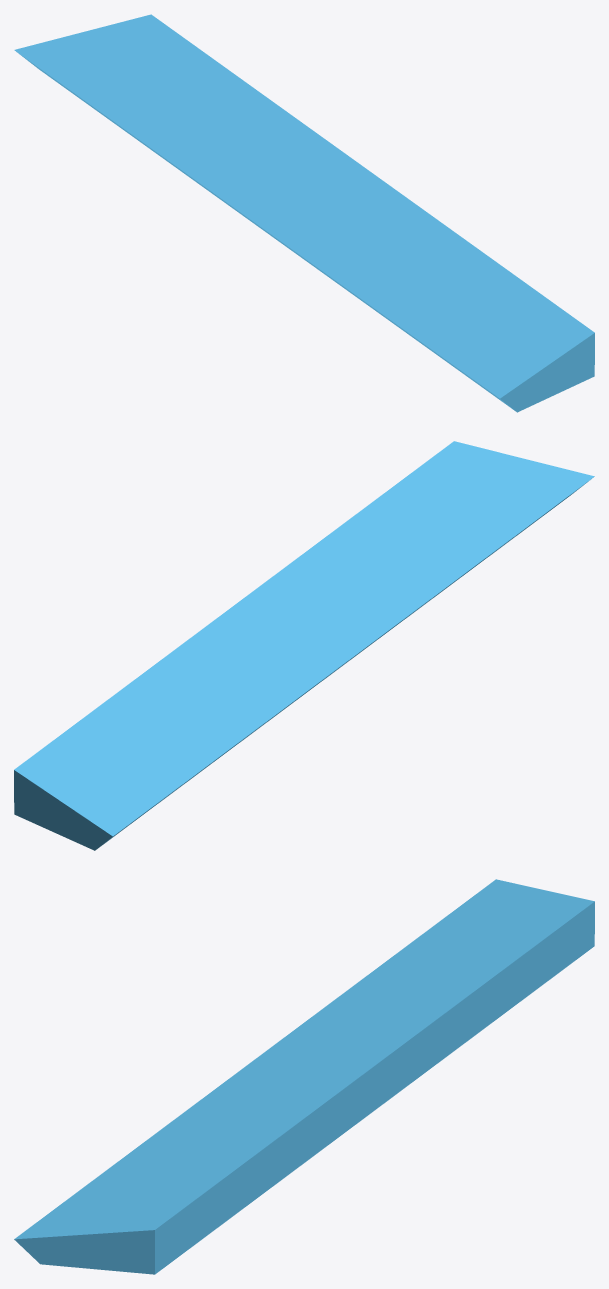
File: EnergyRingDebris.fbx
The picture shows the model from 3 angles, top to bottom: view 1: azimuth 30°, elevation 25°; view 2: azimuth 150°, elevation 25°; view 3: azimuth 330°, elevation 25°; orthographic projection. The views are drawn at different scales.
Visible parts, largest first — view 1: EnergyRing Debris; view 2: EnergyRing Debris; view 3: EnergyRing Debris.
Boxes of the visible parts, left/top/right/bottom form: EnergyRing Debris: left=14, top=14, right=594, bottom=412; EnergyRing Debris: left=14, top=441, right=594, bottom=850; EnergyRing Debris: left=14, top=879, right=594, bottom=1274.
Size of the model in its own units: 25.07 by 168 by 8.55.
